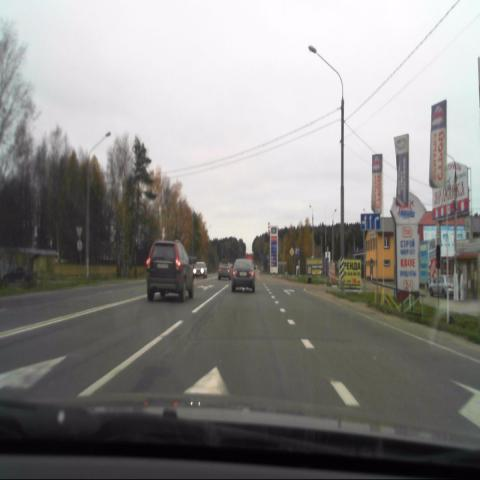5_15_1: (360, 214, 380, 232)
